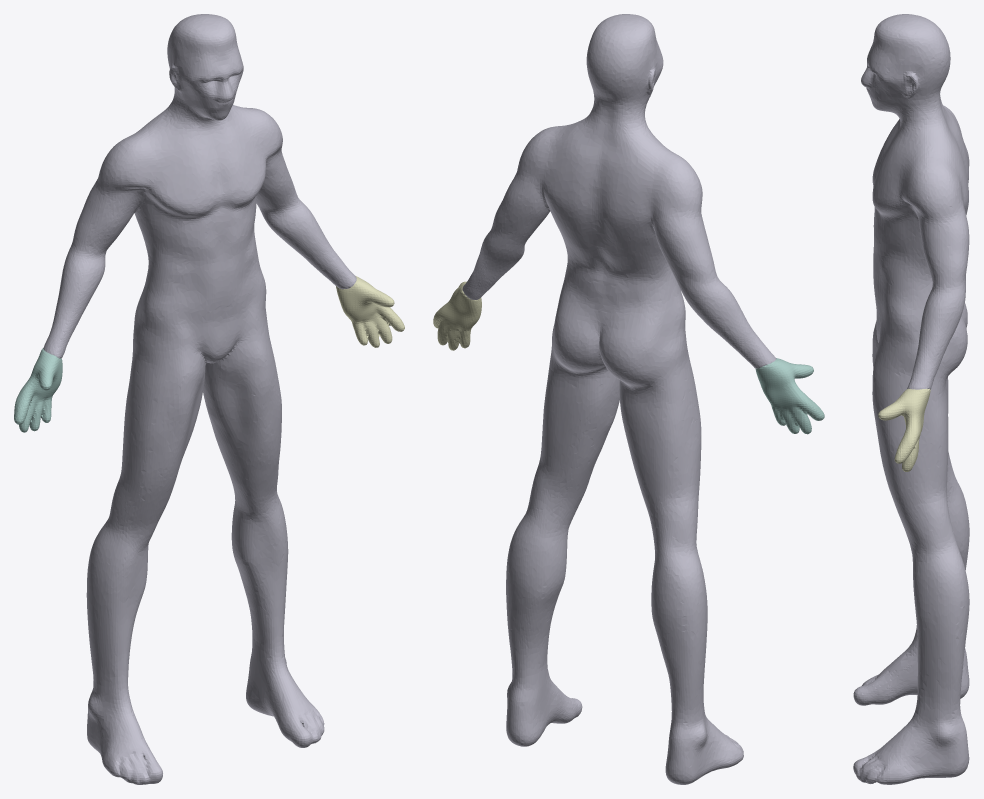
The model's file is partpacker_20260418_141146.glb.
3 renders of one model, left to right at view 1: azimuth 30°, elevation 25°; view 2: azimuth 150°, elevation 25°; view 3: azimuth 270°, elevation 25°, orthographic.
Parts seen in each view (by area): view 1: world; view 2: world; view 3: world.
Boxes of the visible parts, box(x1,y1,x2,y2) form: world: box(14, 14, 404, 784); world: box(433, 14, 824, 784); world: box(853, 14, 969, 784).
Size of the model in its own units: 1.06 by 1.91 by 0.2785.
